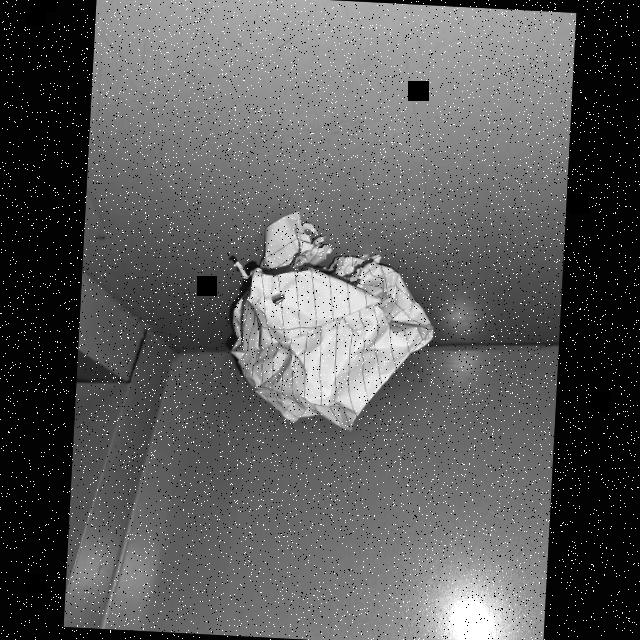scrap_paper: (213, 212, 436, 441)
